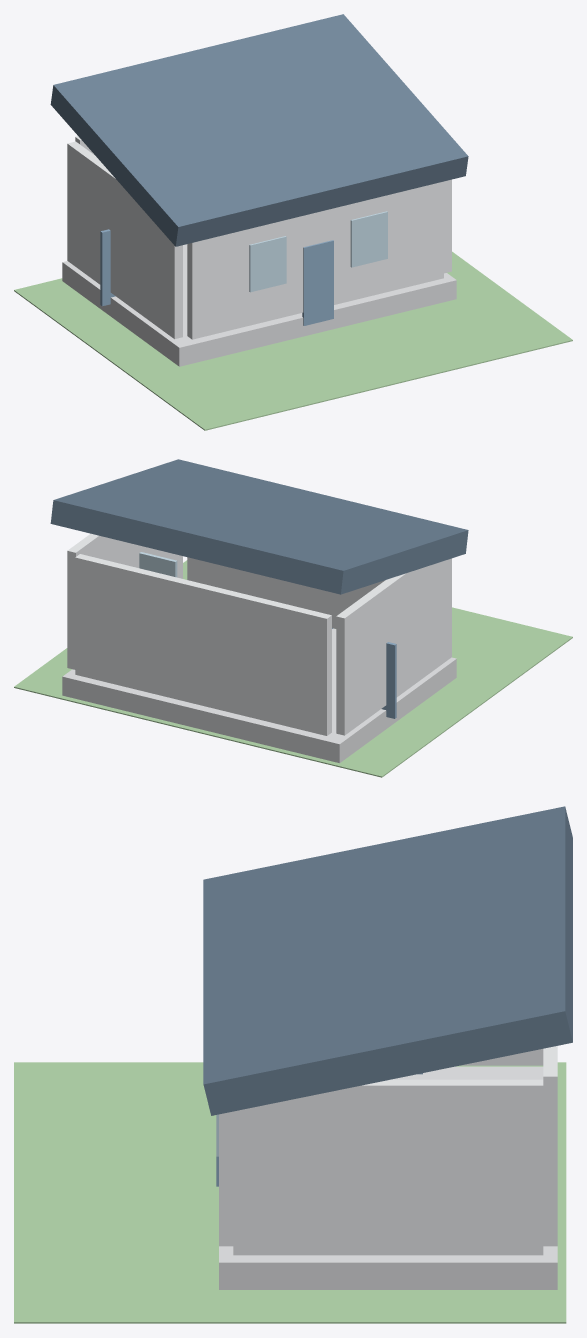
The model's file is BUILDING_HOUSE_COASTAL_COTTAGE_001_LOD_MAP.glb.
The picture shows the model from 3 angles, top to bottom: view 1: azimuth 30°, elevation 25°; view 2: azimuth 150°, elevation 25°; view 3: azimuth 270°, elevation 25°; orthographic projection. The views are drawn at different scales.
Visible parts, largest first — view 1: BUILDING_HOUSE_COASTAL_COTTAGE_001_MAP_ROOF, BUILDING_HOUSE_COASTAL_COTTAGE_001_MAP_GROUND, BUILDING_HOUSE_COASTAL_COTTAGE_001_MAP_WALL_FRONT, BUILDING_HOUSE_COASTAL_COTTAGE_001_MAP_WALL_LEFT, BUILDING_HOUSE_COASTAL_COTTAGE_001_MAP_FOUNDATION, BUILDING_HOUSE_COASTAL_COTTAGE_001_MAP_DOOR_FRONT, BUILDING_HOUSE_COASTAL_COTTAGE_001_MAP_WINDOW_01, BUILDING_HOUSE_COASTAL_COTTAGE_001_MAP_WINDOW_02, BUILDING_HOUSE_COASTAL_COTTAGE_001_MAP_DOOR_SERVICE, BUILDING_HOUSE_COASTAL_COTTAGE_001_MAP_WALL_RIGHT; view 2: BUILDING_HOUSE_COASTAL_COTTAGE_001_MAP_WALL_BACK, BUILDING_HOUSE_COASTAL_COTTAGE_001_MAP_ROOF, BUILDING_HOUSE_COASTAL_COTTAGE_001_MAP_GROUND, BUILDING_HOUSE_COASTAL_COTTAGE_001_MAP_WALL_LEFT, BUILDING_HOUSE_COASTAL_COTTAGE_001_MAP_FOUNDATION, BUILDING_HOUSE_COASTAL_COTTAGE_001_MAP_WALL_FRONT, BUILDING_HOUSE_COASTAL_COTTAGE_001_MAP_WALL_RIGHT, BUILDING_HOUSE_COASTAL_COTTAGE_001_MAP_DOOR_SERVICE, BUILDING_HOUSE_COASTAL_COTTAGE_001_MAP_WINDOW_03; view 3: BUILDING_HOUSE_COASTAL_COTTAGE_001_MAP_ROOF, BUILDING_HOUSE_COASTAL_COTTAGE_001_MAP_GROUND, BUILDING_HOUSE_COASTAL_COTTAGE_001_MAP_WALL_RIGHT, BUILDING_HOUSE_COASTAL_COTTAGE_001_MAP_FOUNDATION, BUILDING_HOUSE_COASTAL_COTTAGE_001_MAP_WALL_BACK, BUILDING_HOUSE_COASTAL_COTTAGE_001_MAP_WALL_FRONT, BUILDING_HOUSE_COASTAL_COTTAGE_001_MAP_WALL_LEFT.
Boxes of the visible parts, x1,y1,x2,y2 form: BUILDING_HOUSE_COASTAL_COTTAGE_001_MAP_ROOF: (50,14,468,246); BUILDING_HOUSE_COASTAL_COTTAGE_001_MAP_GROUND: (14,251,572,430); BUILDING_HOUSE_COASTAL_COTTAGE_001_MAP_WALL_FRONT: (187,181,443,339); BUILDING_HOUSE_COASTAL_COTTAGE_001_MAP_WALL_LEFT: (67,141,182,339); BUILDING_HOUSE_COASTAL_COTTAGE_001_MAP_FOUNDATION: (62,244,456,366); BUILDING_HOUSE_COASTAL_COTTAGE_001_MAP_DOOR_FRONT: (302,240,333,325); BUILDING_HOUSE_COASTAL_COTTAGE_001_MAP_WINDOW_01: (249,236,286,292); BUILDING_HOUSE_COASTAL_COTTAGE_001_MAP_WINDOW_02: (350,211,387,267); BUILDING_HOUSE_COASTAL_COTTAGE_001_MAP_DOOR_SERVICE: (100,229,115,306); BUILDING_HOUSE_COASTAL_COTTAGE_001_MAP_WALL_RIGHT: (444,179,451,273); BUILDING_HOUSE_COASTAL_COTTAGE_001_MAP_WALL_BACK: (75,554,331,735); BUILDING_HOUSE_COASTAL_COTTAGE_001_MAP_ROOF: (50,459,468,594); BUILDING_HOUSE_COASTAL_COTTAGE_001_MAP_GROUND: (14,560,572,777); BUILDING_HOUSE_COASTAL_COTTAGE_001_MAP_WALL_LEFT: (336,558,451,735); BUILDING_HOUSE_COASTAL_COTTAGE_001_MAP_FOUNDATION: (62,628,456,763); BUILDING_HOUSE_COASTAL_COTTAGE_001_MAP_WALL_FRONT: (187,557,385,628); BUILDING_HOUSE_COASTAL_COTTAGE_001_MAP_WALL_RIGHT: (67,533,182,669); BUILDING_HOUSE_COASTAL_COTTAGE_001_MAP_DOOR_SERVICE: (381,642,396,718); BUILDING_HOUSE_COASTAL_COTTAGE_001_MAP_WINDOW_03: (139,552,177,577); BUILDING_HOUSE_COASTAL_COTTAGE_001_MAP_ROOF: (203,806,572,1115); BUILDING_HOUSE_COASTAL_COTTAGE_001_MAP_GROUND: (14,1062,566,1323); BUILDING_HOUSE_COASTAL_COTTAGE_001_MAP_WALL_RIGHT: (233,1079,543,1255); BUILDING_HOUSE_COASTAL_COTTAGE_001_MAP_FOUNDATION: (219,1066,557,1289); BUILDING_HOUSE_COASTAL_COTTAGE_001_MAP_WALL_BACK: (543,1046,557,1246); BUILDING_HOUSE_COASTAL_COTTAGE_001_MAP_WALL_FRONT: (219,1111,233,1246); BUILDING_HOUSE_COASTAL_COTTAGE_001_MAP_WALL_LEFT: (461,1049,543,1065).
Size of the model in its own units: 6.9 by 3.53 by 6.27.
